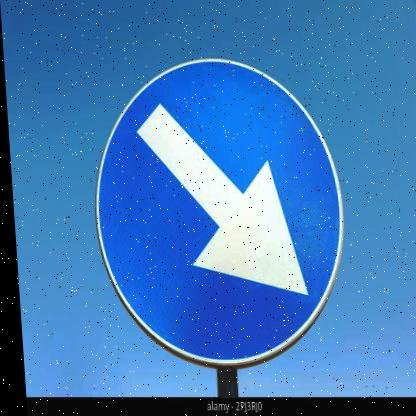Keep right: (87, 54, 350, 367)
